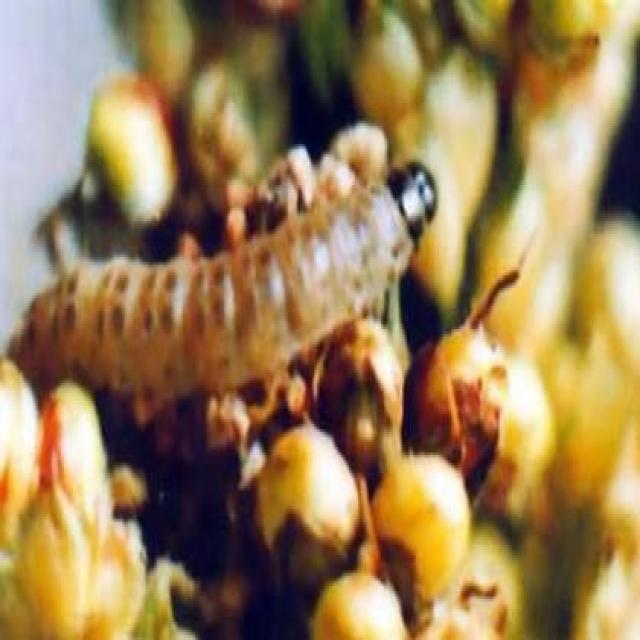peach borer: (12, 159, 448, 398)
